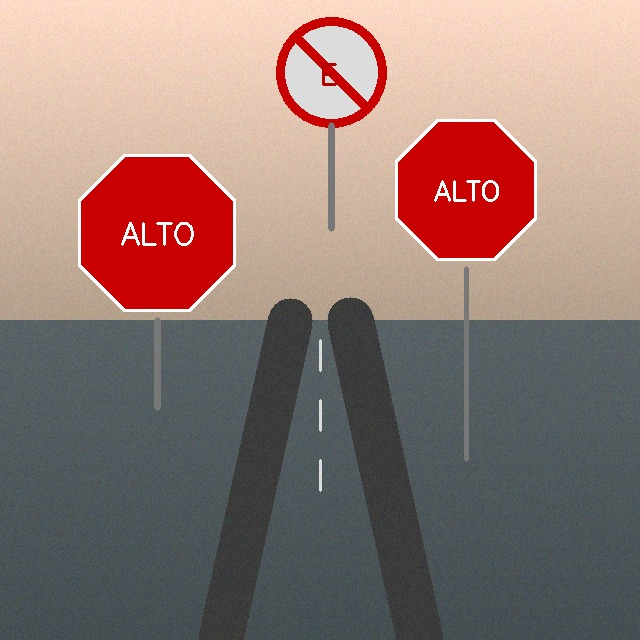alto: (71, 147, 244, 320), (389, 113, 544, 268)
no_estacionar: (278, 19, 384, 125)
